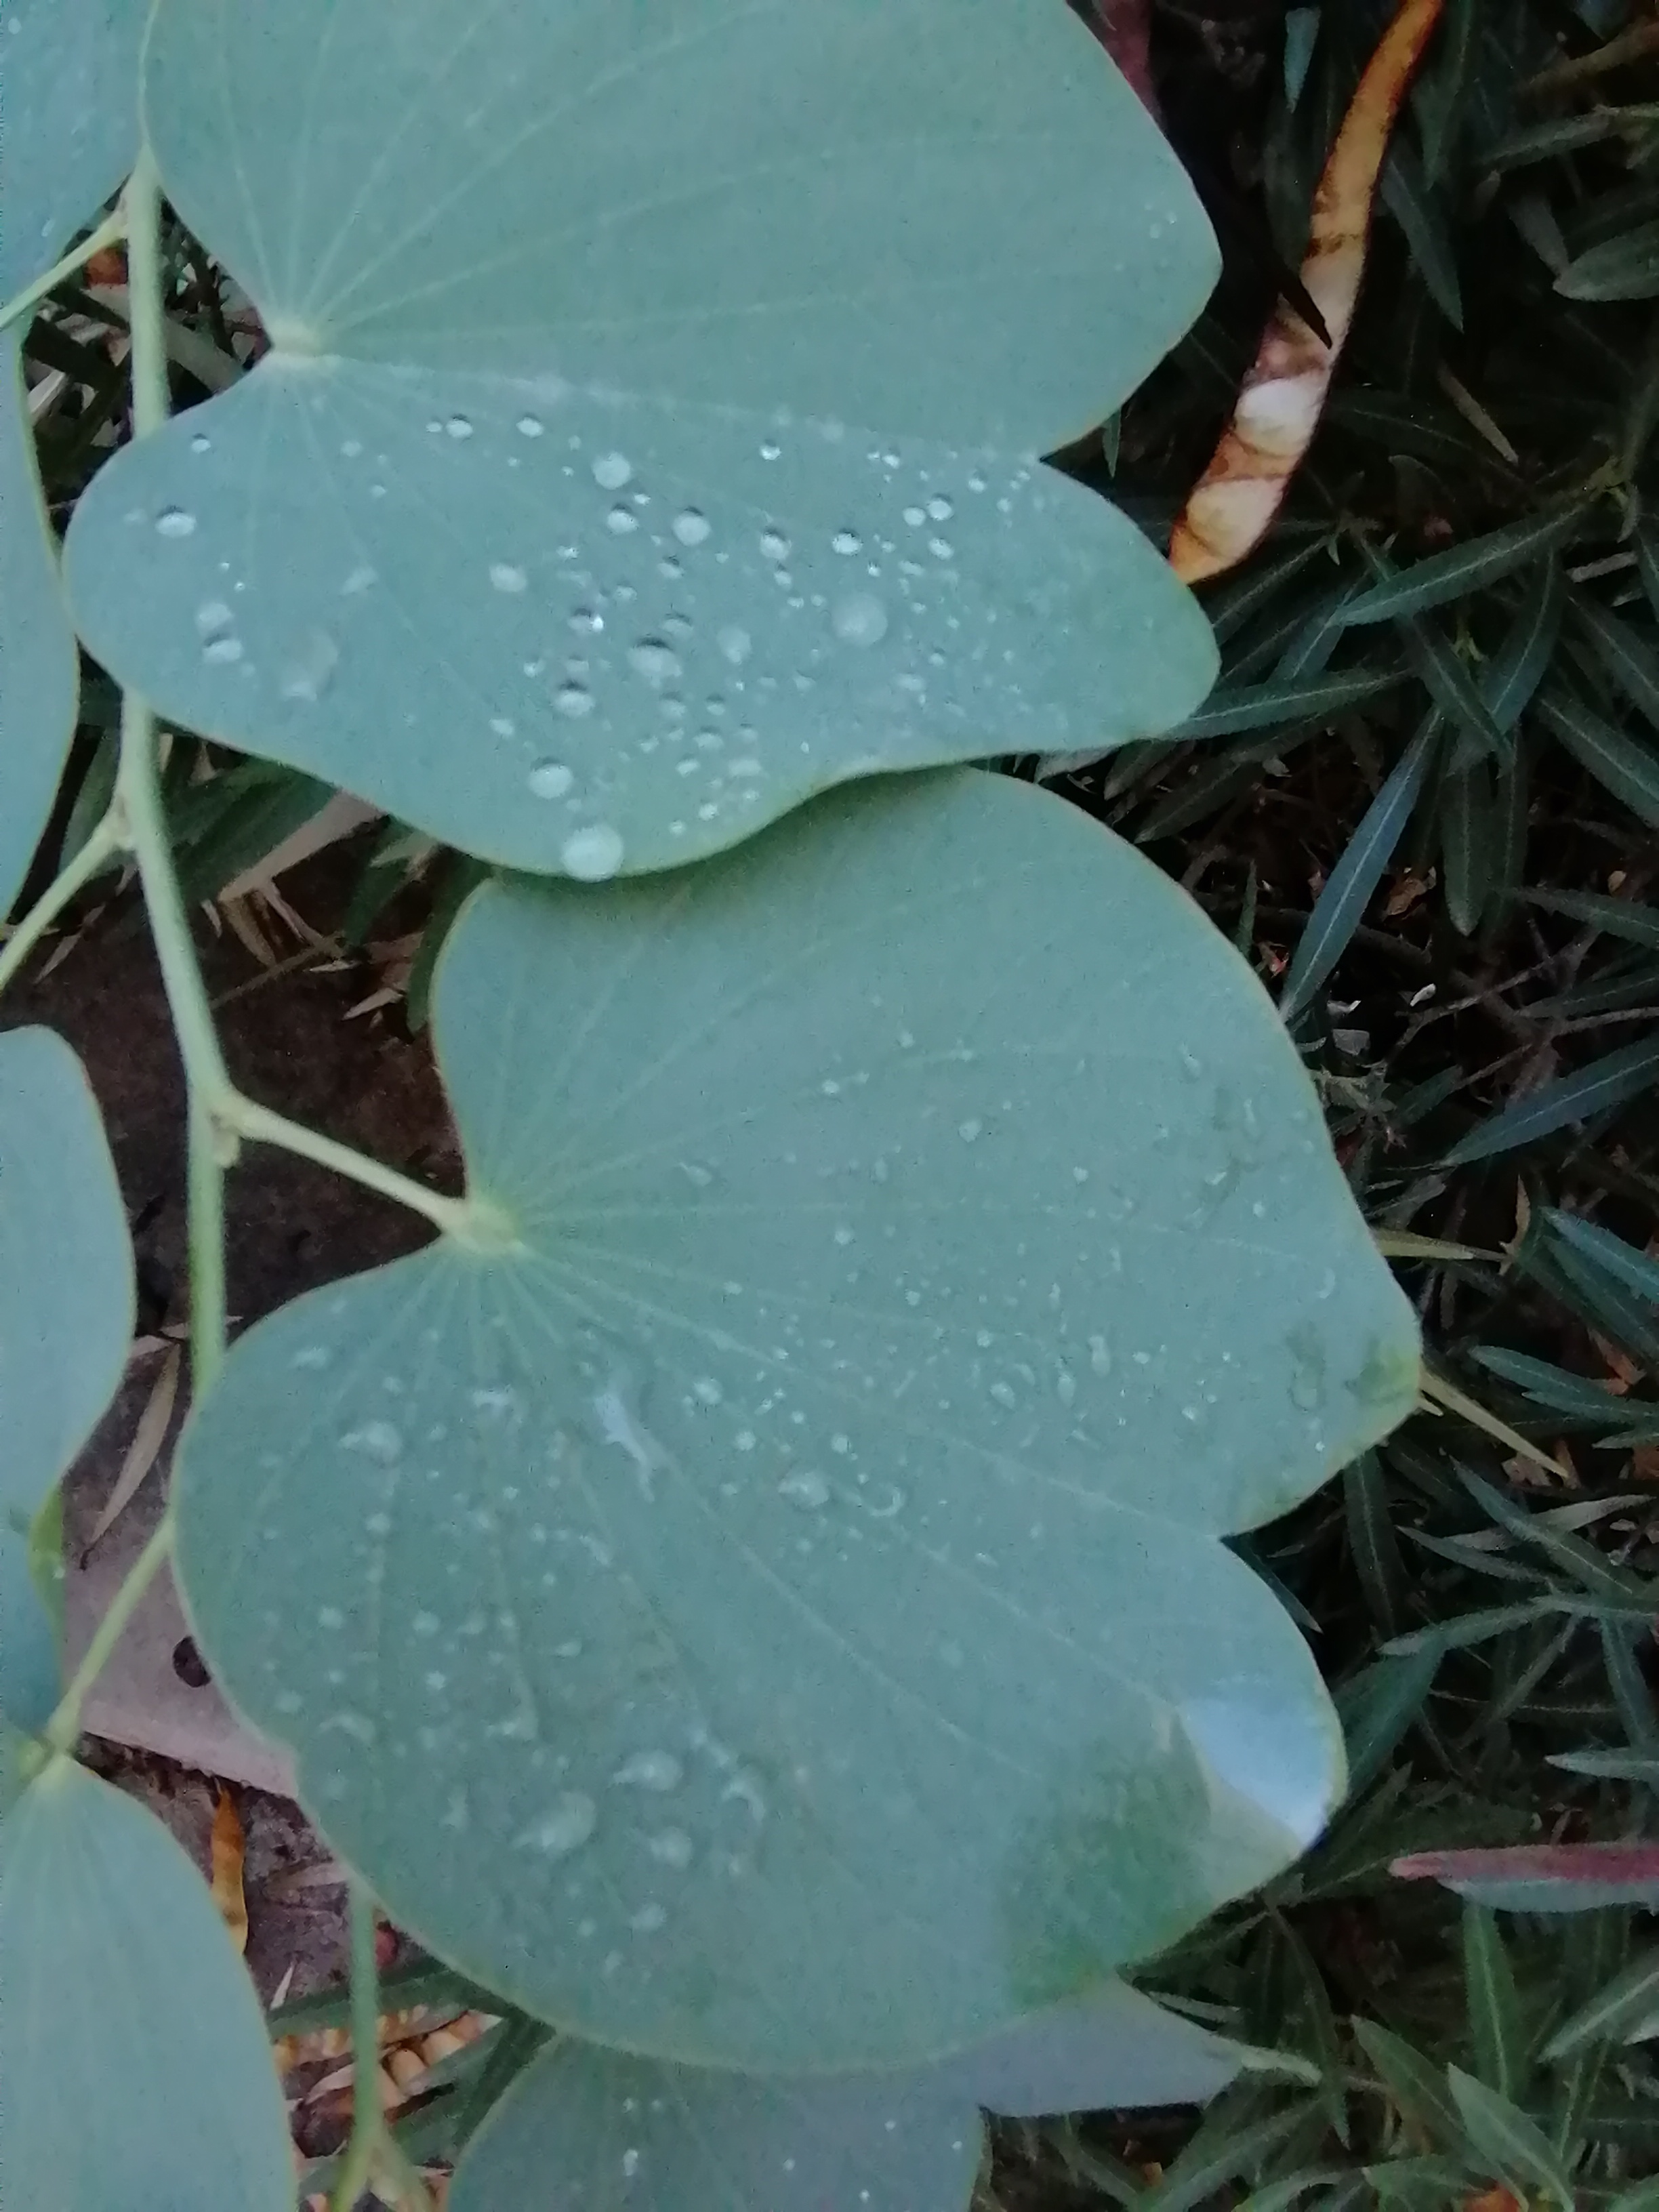healthy: (202, 786, 1431, 2029), (141, 5, 1127, 843)
